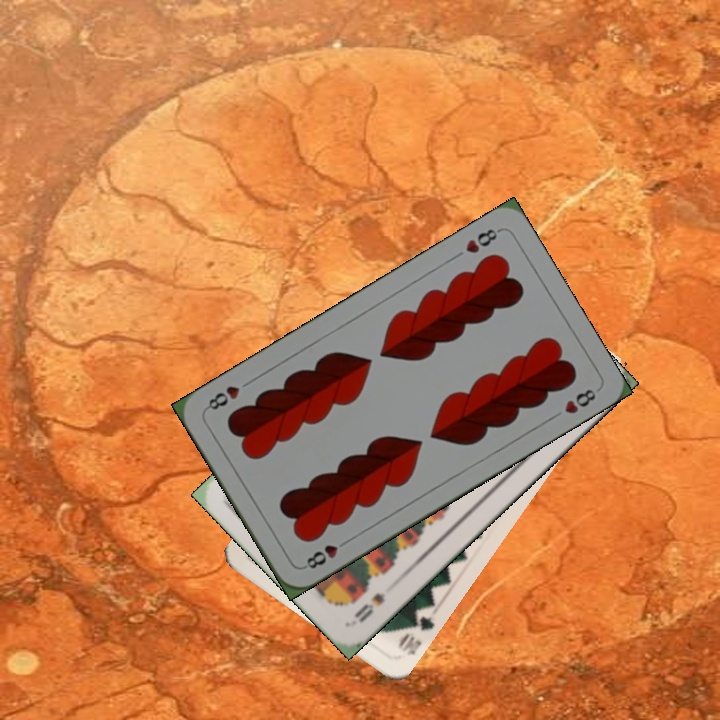G10: (394, 608, 437, 658)
H8: (299, 535, 352, 572), (461, 224, 503, 256)
S8: (349, 588, 388, 626)
